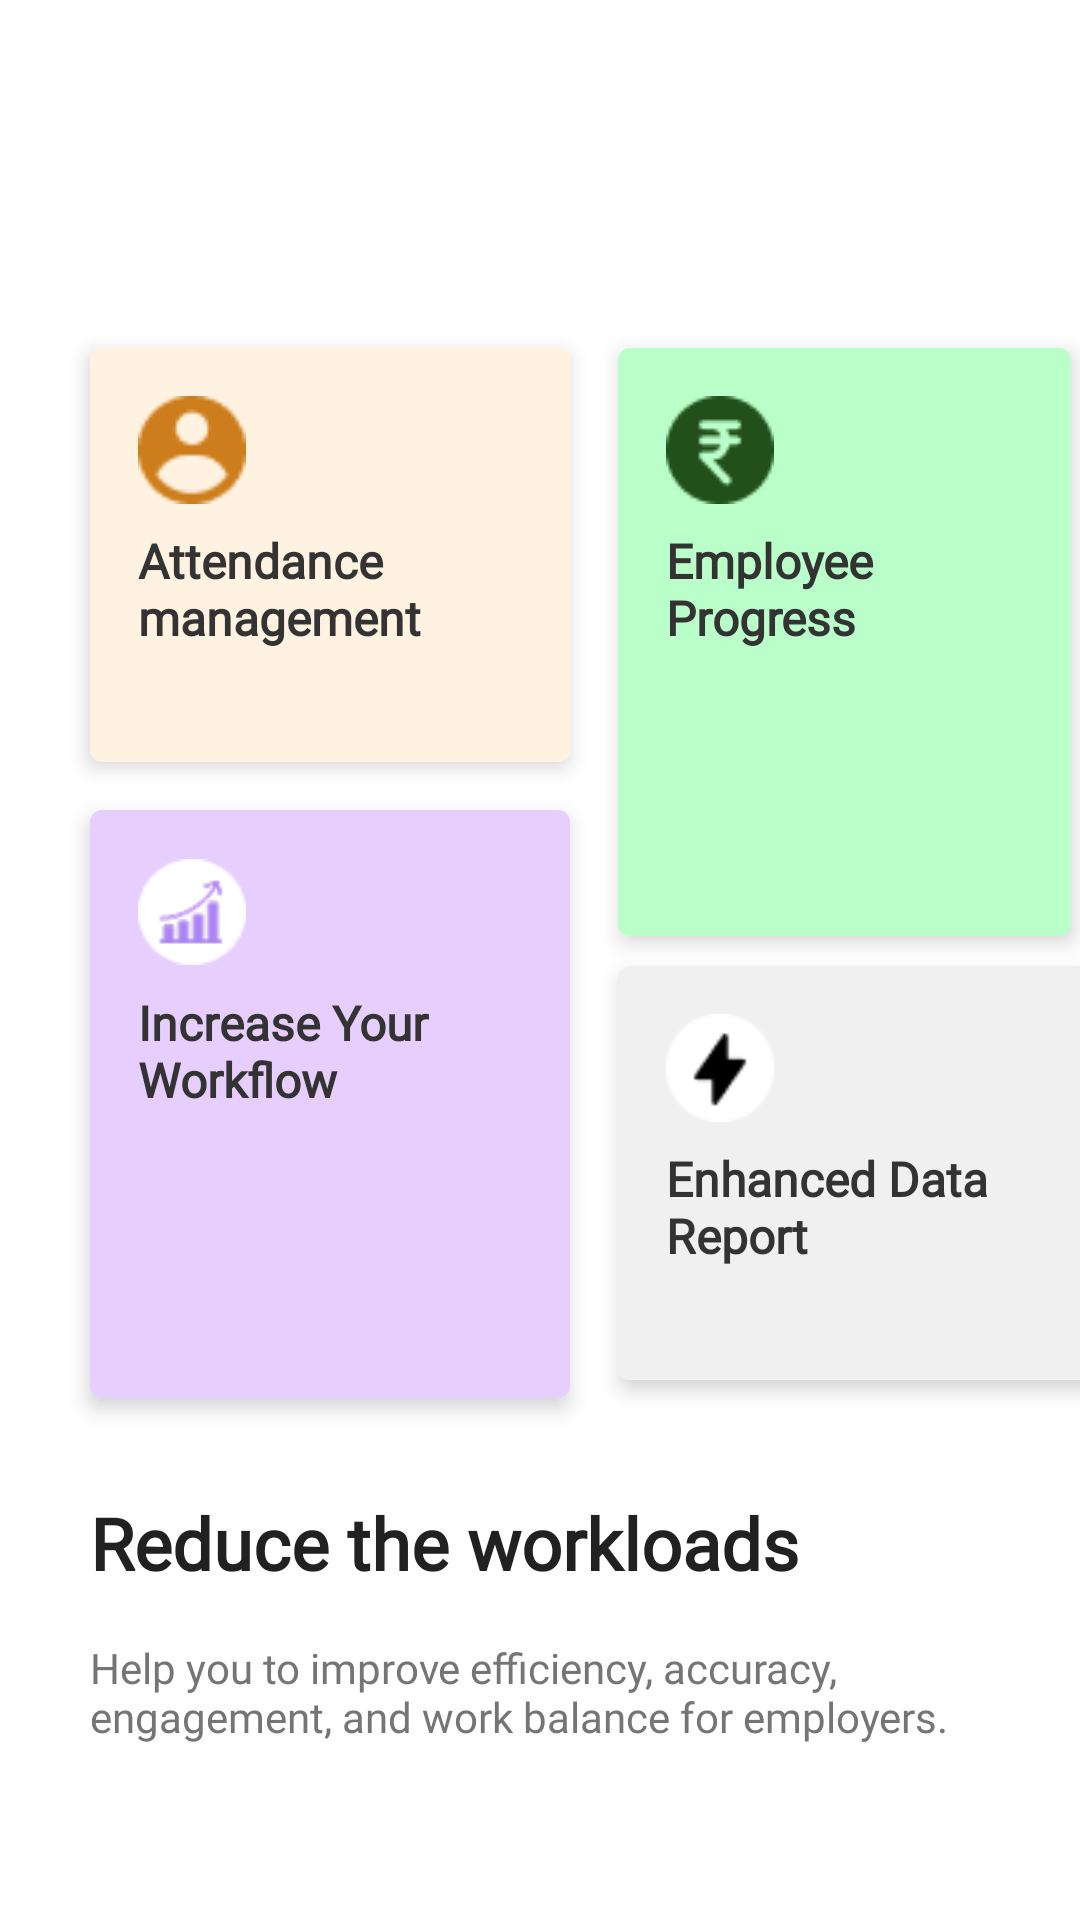

Icon bounding boxes for this 1080*1920 phone screenshot, format (x1, y1, x2, y2):
growth: (138, 859, 246, 965)
lightning: (666, 1014, 774, 1122)
rupee: (666, 396, 774, 504)
user: (138, 396, 246, 504)
